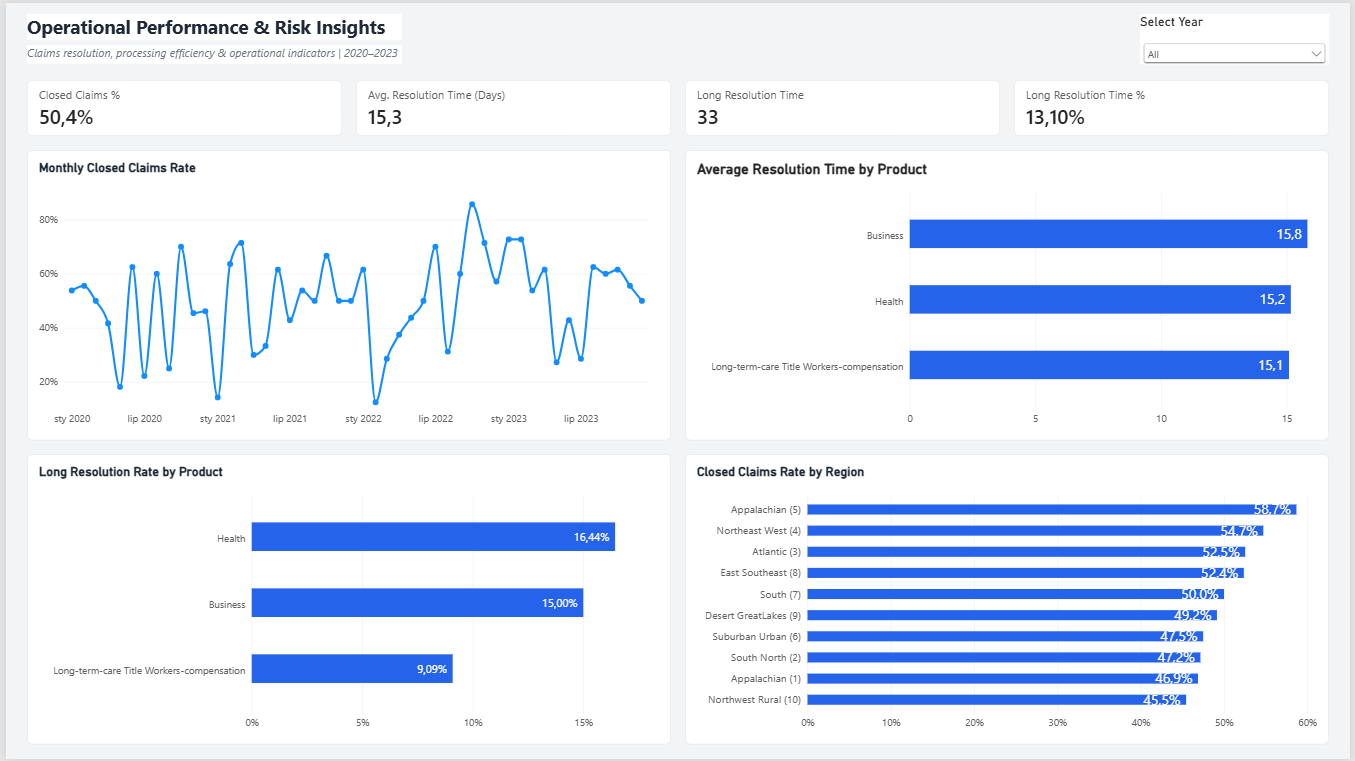

The page's visual inventory and layout, read from the dashboard file:
{"tool":"powerbi","page":{"name":"03 | Operational Performance & Risk Insights","canvas":[1920,1080],"ordinal":2},"visuals":[{"type":"cardVisual","fields":{"Data":["claims.Closed Claims %"]},"box":[30,110,450,80],"z":0},{"type":"cardVisual","fields":{"Data":["claims.Average Resolution Time"]},"box":[500,110,450,80],"z":1000},{"type":"cardVisual","fields":{"Data":["claims.Long Resolution Time"]},"box":[970,110,450,80],"z":2000},{"type":"cardVisual","fields":{"Data":["claims.Long Resolution Time %"]},"box":[1440,110,450,80],"z":3000},{"type":"lineChart","title":"Monthly Closed Claims Rate","fields":{"Category":["DimCalendar.Month Start"],"Y":["claims.Closed Claims %"]},"box":[30,210,920.5,415],"z":4000},{"type":"textbox","box":[30,60,535,26.7],"z":5000},{"type":"textbox","box":[30,15,535,36.7],"z":6000},{"type":"clusteredBarChart","title":"Average Resolution Time by Product","fields":{"Category":["product_lines.name"],"Y":["claims.Average Resolution Time"]},"box":[970,210,920.5,415],"z":7000},{"type":"clusteredBarChart","title":"Long Resolution Rate by Product","fields":{"Category":["product_lines.name"],"Y":["claims.Long Resolution Time %"]},"box":[30,645,920.5,415],"z":8000},{"type":"clusteredBarChart","title":"Closed Claims Rate by Region","fields":{"Category":["regions.Region Label"],"Y":["claims.Closed Claims %"]},"box":[970,645,920,415],"z":9000},{"type":"slicer","title":"Select Year","fields":{"Values":["DimCalendar.Year"]},"box":[1620,15.6,270,71.7],"z":10000}]}

Visuals, with their boxes in screenshot pixels (x1, y1, x2, y2), scaled from the page's 1920x1080 canvas onto the 1355x761 screenshot:
cardVisual - claims.Closed Claims %: crop(21, 78, 339, 134)
cardVisual - claims.Average Resolution Time: crop(353, 78, 670, 134)
cardVisual - claims.Long Resolution Time: crop(685, 78, 1002, 134)
cardVisual - claims.Long Resolution Time %: crop(1016, 78, 1334, 134)
"Monthly Closed Claims Rate" lineChart: crop(21, 148, 671, 440)
textbox: crop(21, 42, 399, 61)
textbox: crop(21, 11, 399, 36)
"Average Resolution Time by Product" clusteredBarChart: crop(685, 148, 1334, 440)
"Long Resolution Rate by Product" clusteredBarChart: crop(21, 454, 671, 747)
"Closed Claims Rate by Region" clusteredBarChart: crop(685, 454, 1334, 747)
"Select Year" slicer: crop(1143, 11, 1334, 62)
